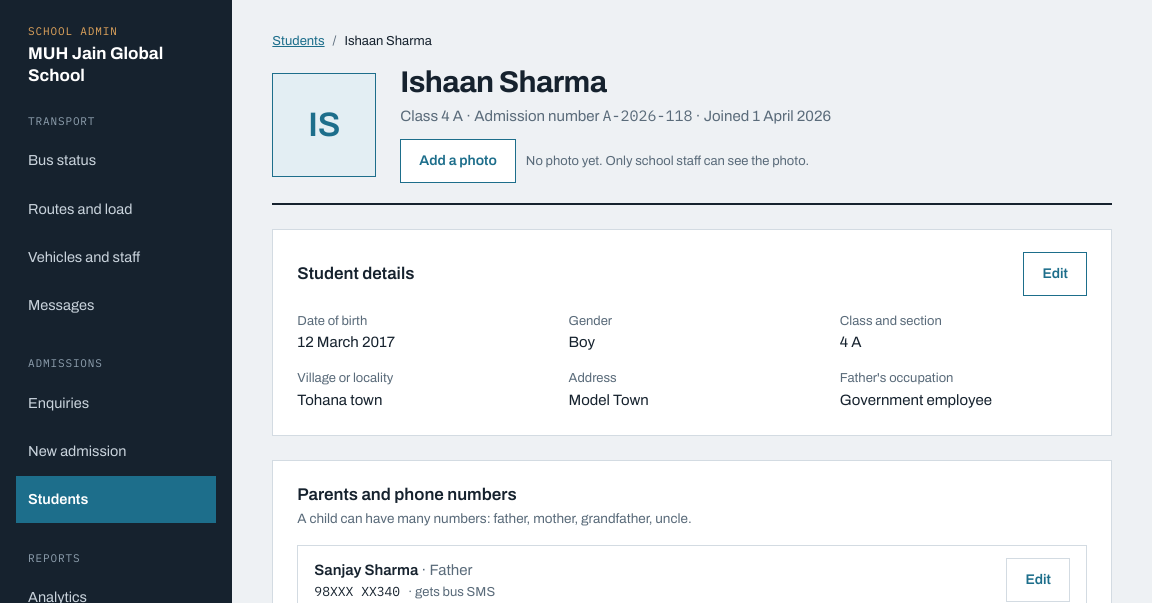
Test case: One student: details box › does not mark as left when the question is answered Cancel
The width and height of the screenshot is (1152, 603).
Expected: the heading "Ishaan Sharma" is shown, [400,66,606,98]
# The box is a new element once it turns into a form, so look it up each time.
Click the button "Edit" in the row of "Student details" at (1055, 274), box [1023,252,1087,296]
(page scrolled)
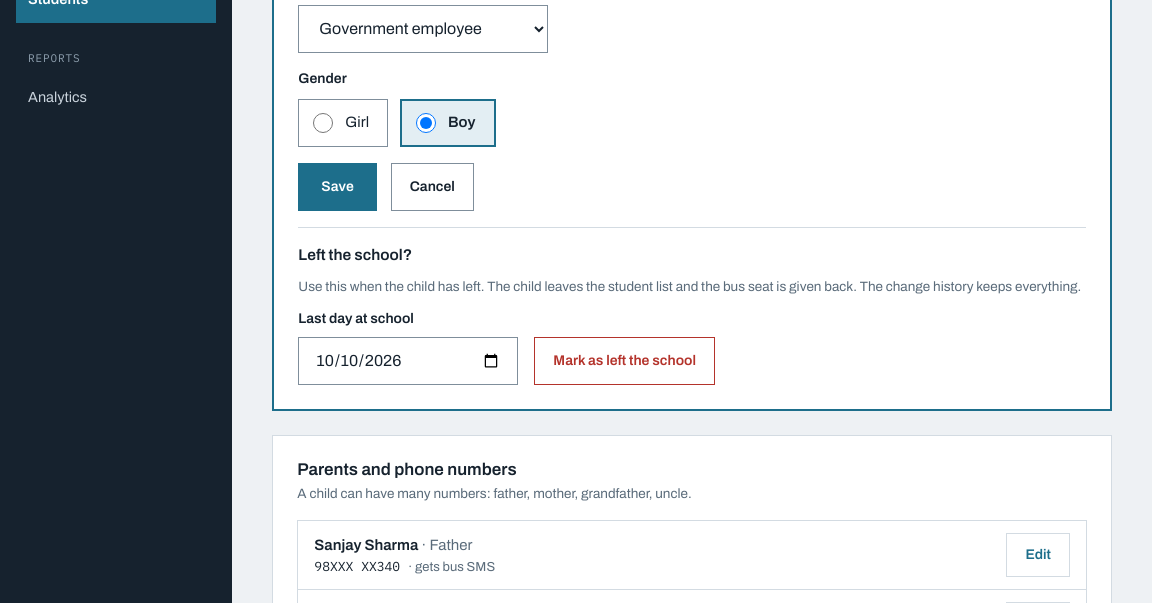
Click the button "Mark as left the school" at (625, 361), box [534,337,715,385]
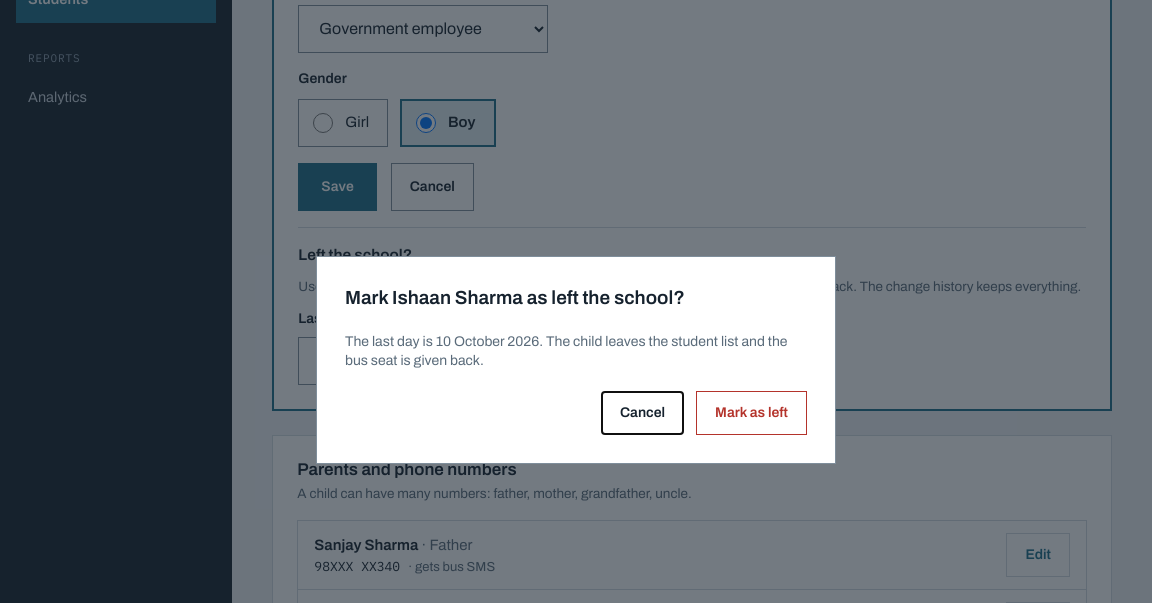
Click the button "Cancel" at (643, 413), box [601,391,684,435]
(page scrolled)
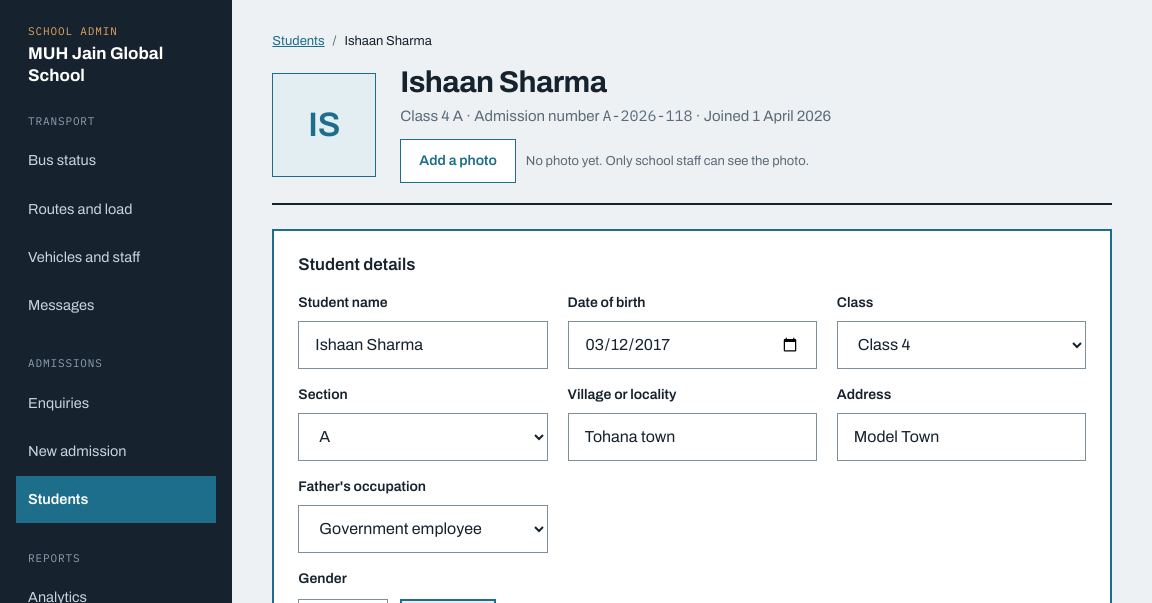
Expected: the heading "Ishaan Sharma" is shown, [400,66,606,98]
Result: the dialog is gone
